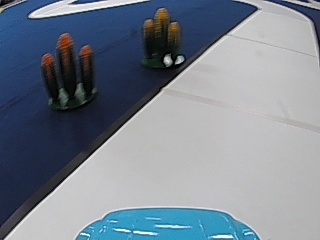corn: (39, 31, 97, 112), (139, 4, 184, 71)
